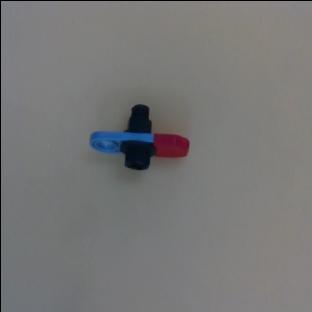part_1_good: (85, 89, 194, 195)
